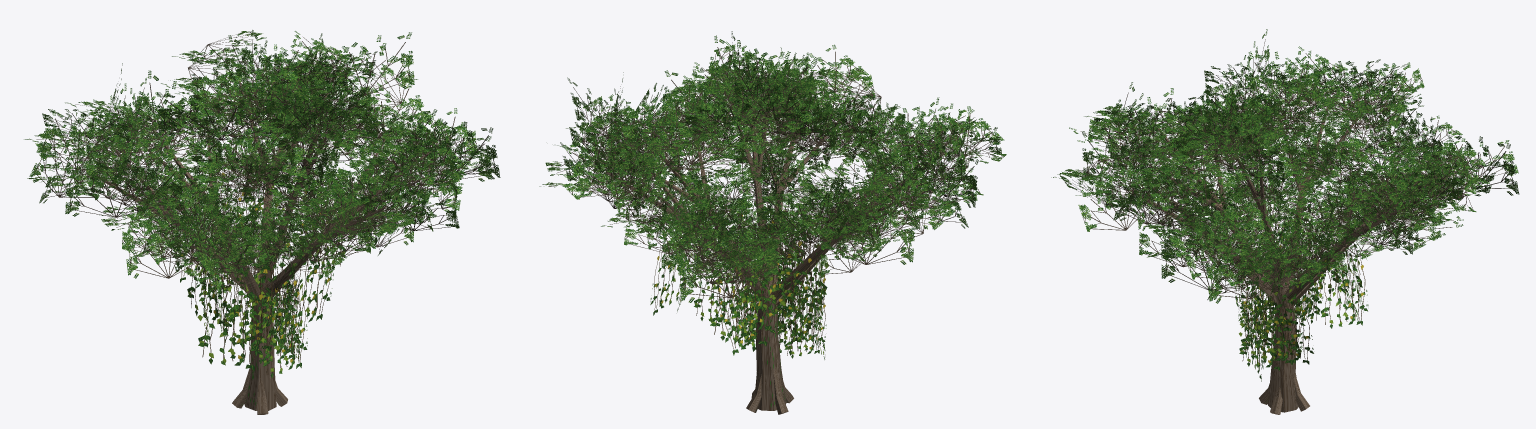
Rendered from pohon_trembesi_sulur_instanced.glb.
3 renders of one model, left to right at view 1: azimuth 30°, elevation 25°; view 2: azimuth 150°, elevation 25°; view 3: azimuth 270°, elevation 25°, orthographic. The views are drawn at different scales.
Parts seen in each view (by area): view 1: Pohon_Trembesi_Sulur; view 2: Pohon_Trembesi_Sulur; view 3: Pohon_Trembesi_Sulur.
Part boxes in pixels (left/top/right/bottom): Pohon_Trembesi_Sulur: left=24, top=30, right=500, bottom=414; Pohon_Trembesi_Sulur: left=539, top=31, right=1006, bottom=414; Pohon_Trembesi_Sulur: left=1051, top=29, right=1519, bottom=414.
Size of the model in its own units: 15.33 by 11.73 by 15.01.
Materials: 1 (1 with a texture image).
